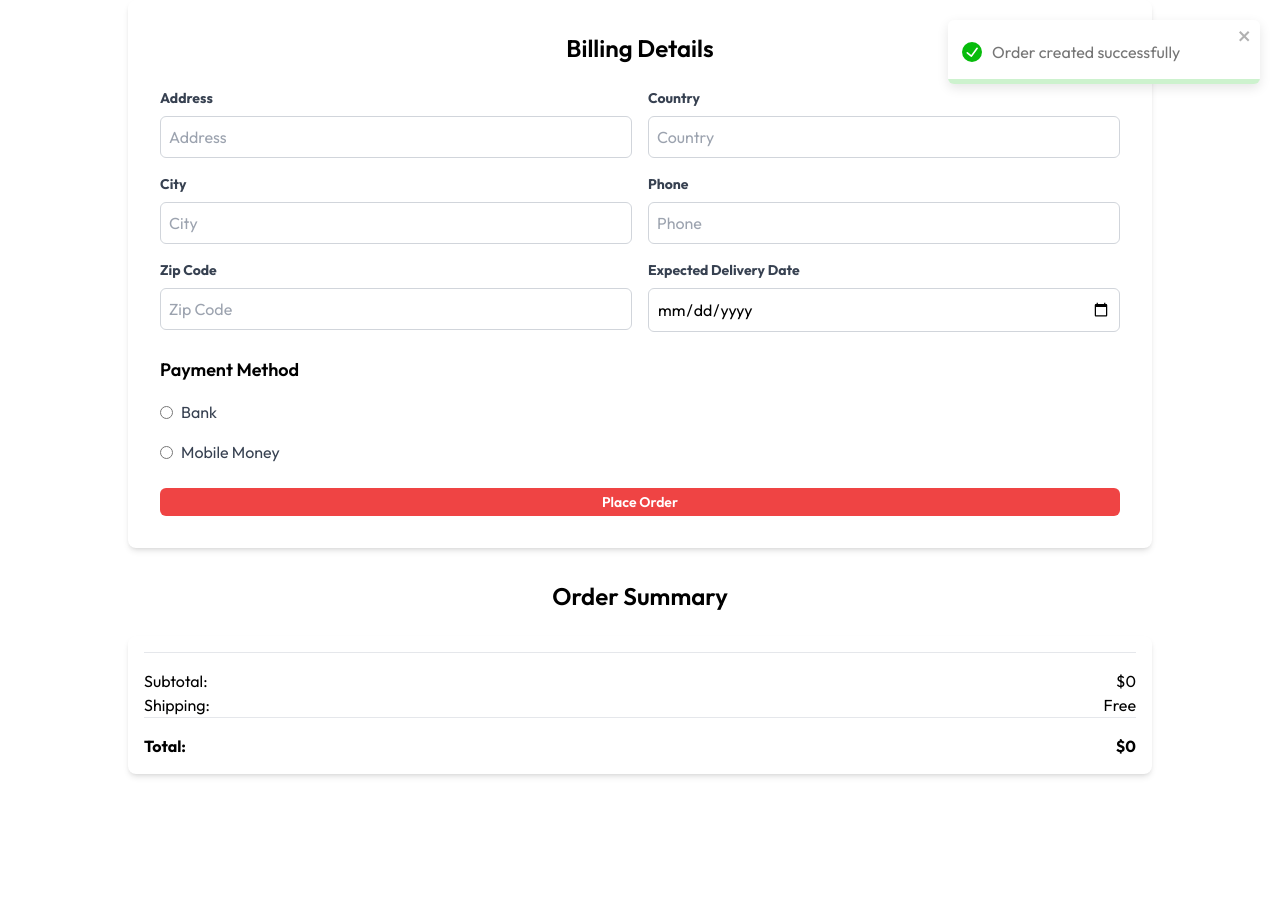
Test: BillingDetails Component › displays error messages for invalid form data
Click the radio button with id "bank" at coordinates (166, 412), box x1=160 y1=406 x2=173 y2=418
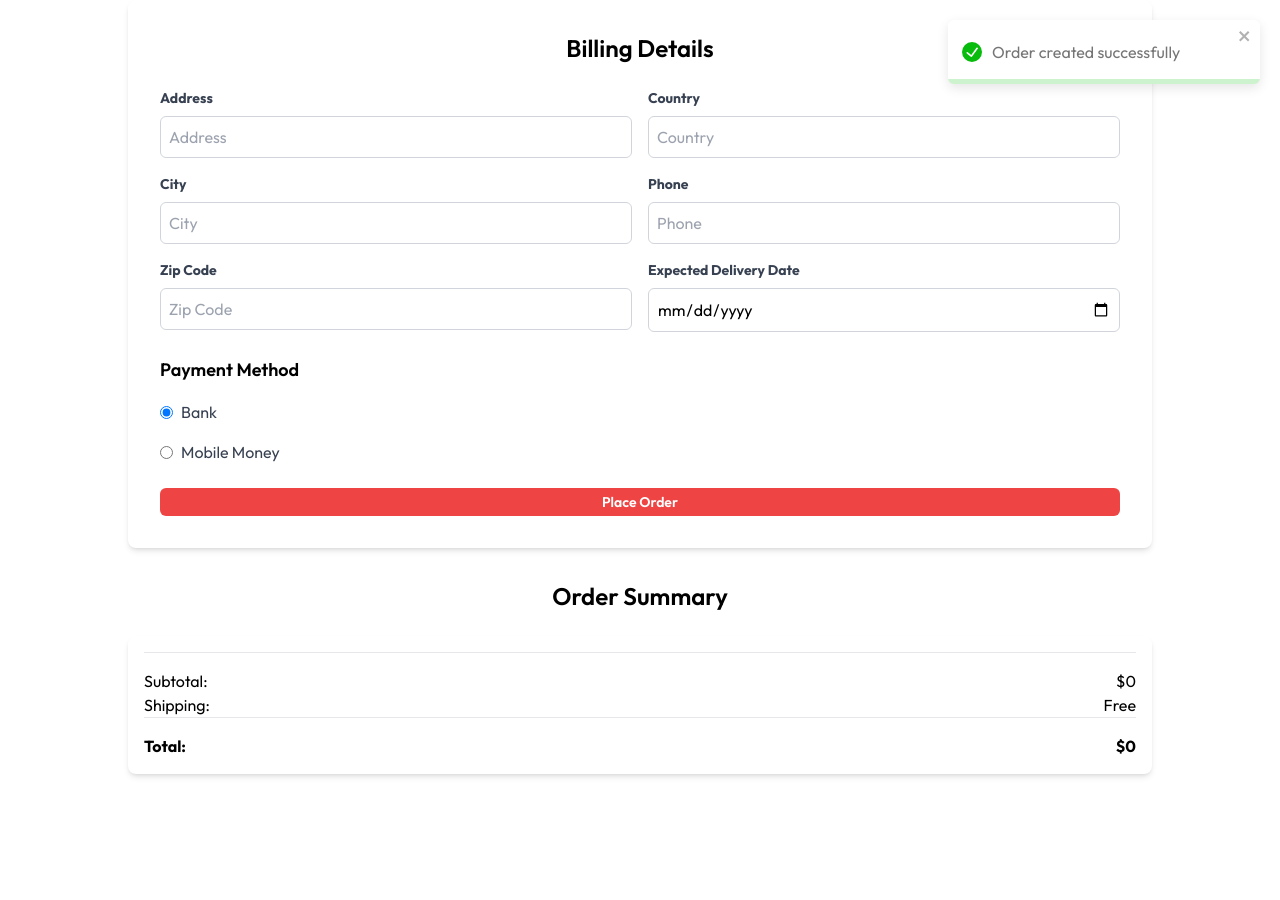
Submit the form, box x1=128 y1=0 x2=1152 y2=548
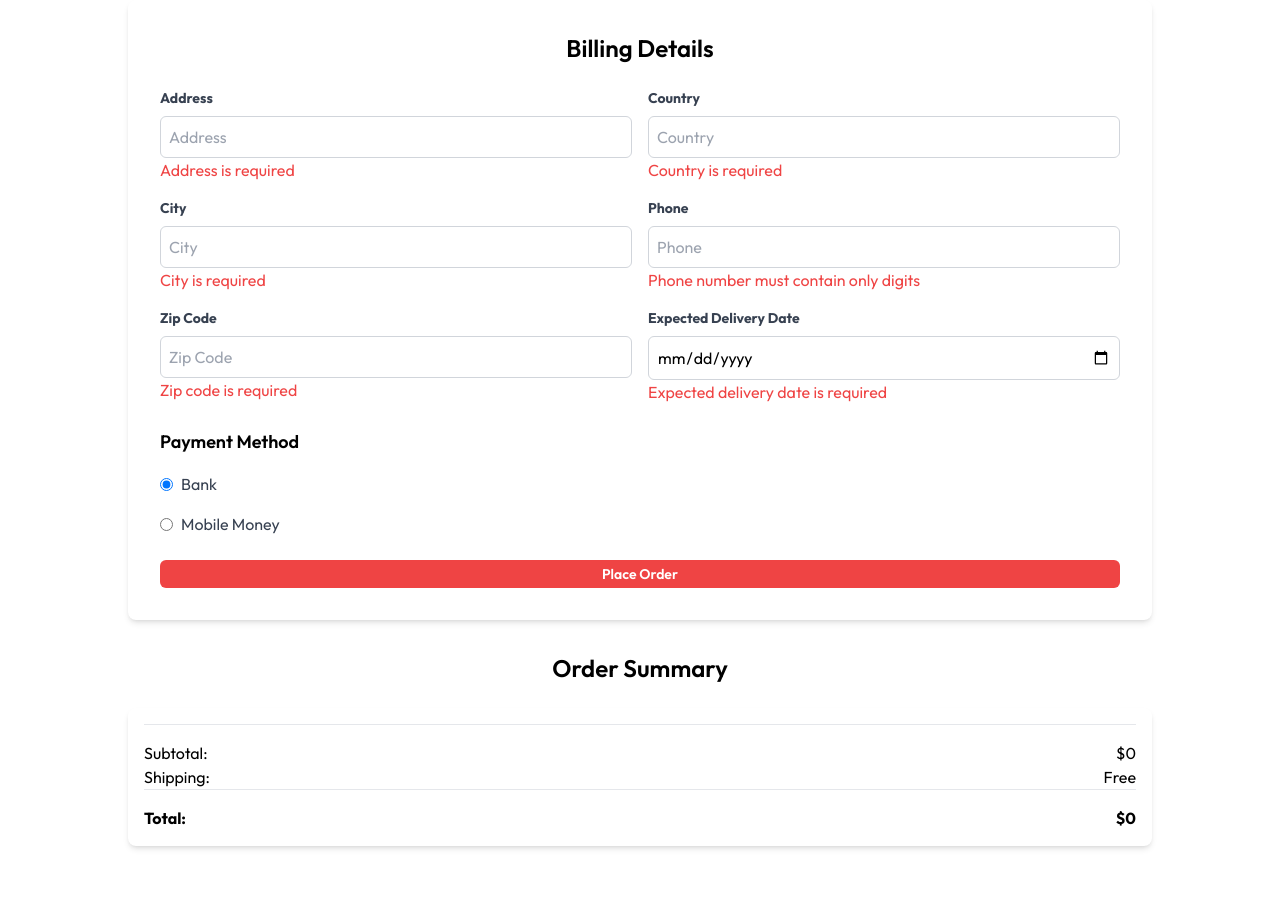
Result: the text "Address is required" is shown at x1=160 y1=160 x2=295 y2=180
